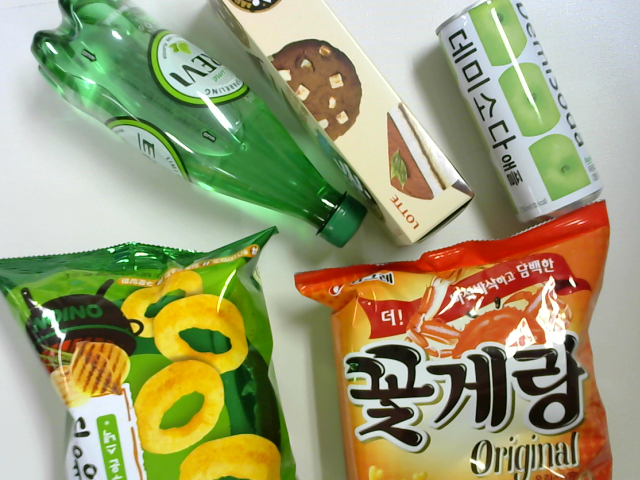Chicchok_Tiramisu: (217, 6, 477, 244)
Crabrang: (293, 200, 610, 480)
Demisoda_Apple_Can_250ml: (435, 6, 605, 222)
Grilled_Onions: (7, 226, 307, 480)
Treviraim_500ml: (31, 4, 367, 252)
